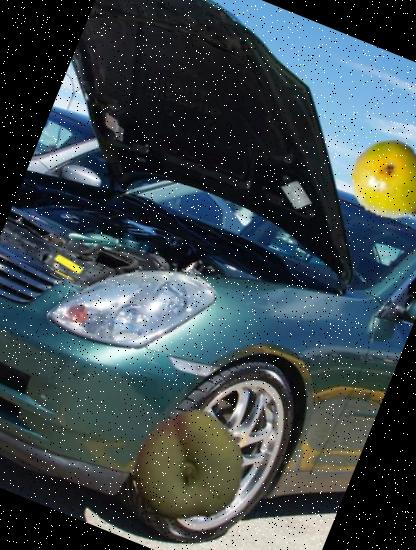Maracuja: (336, 126, 416, 237)
Peach: (114, 393, 260, 539)
